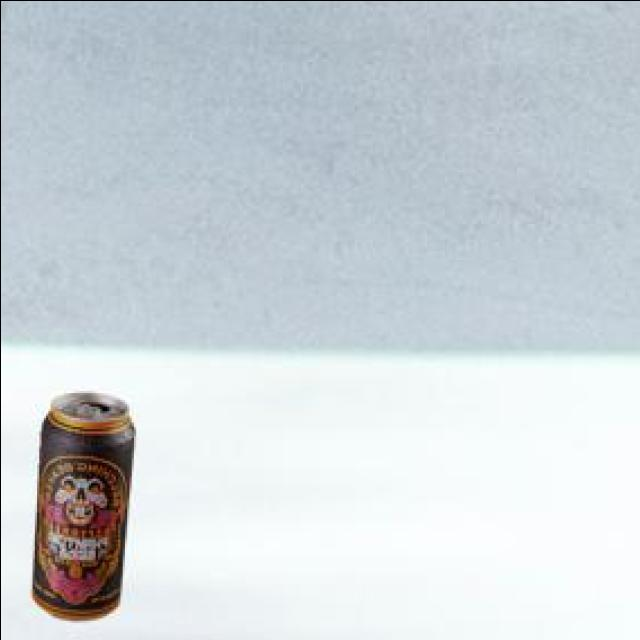logam: (35, 389, 136, 616)
